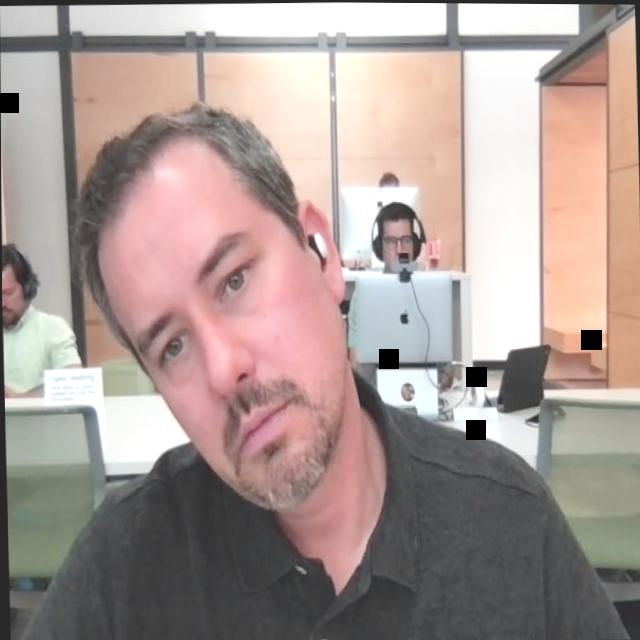NO-Mask: (69, 101, 351, 515), (1, 243, 37, 327)
